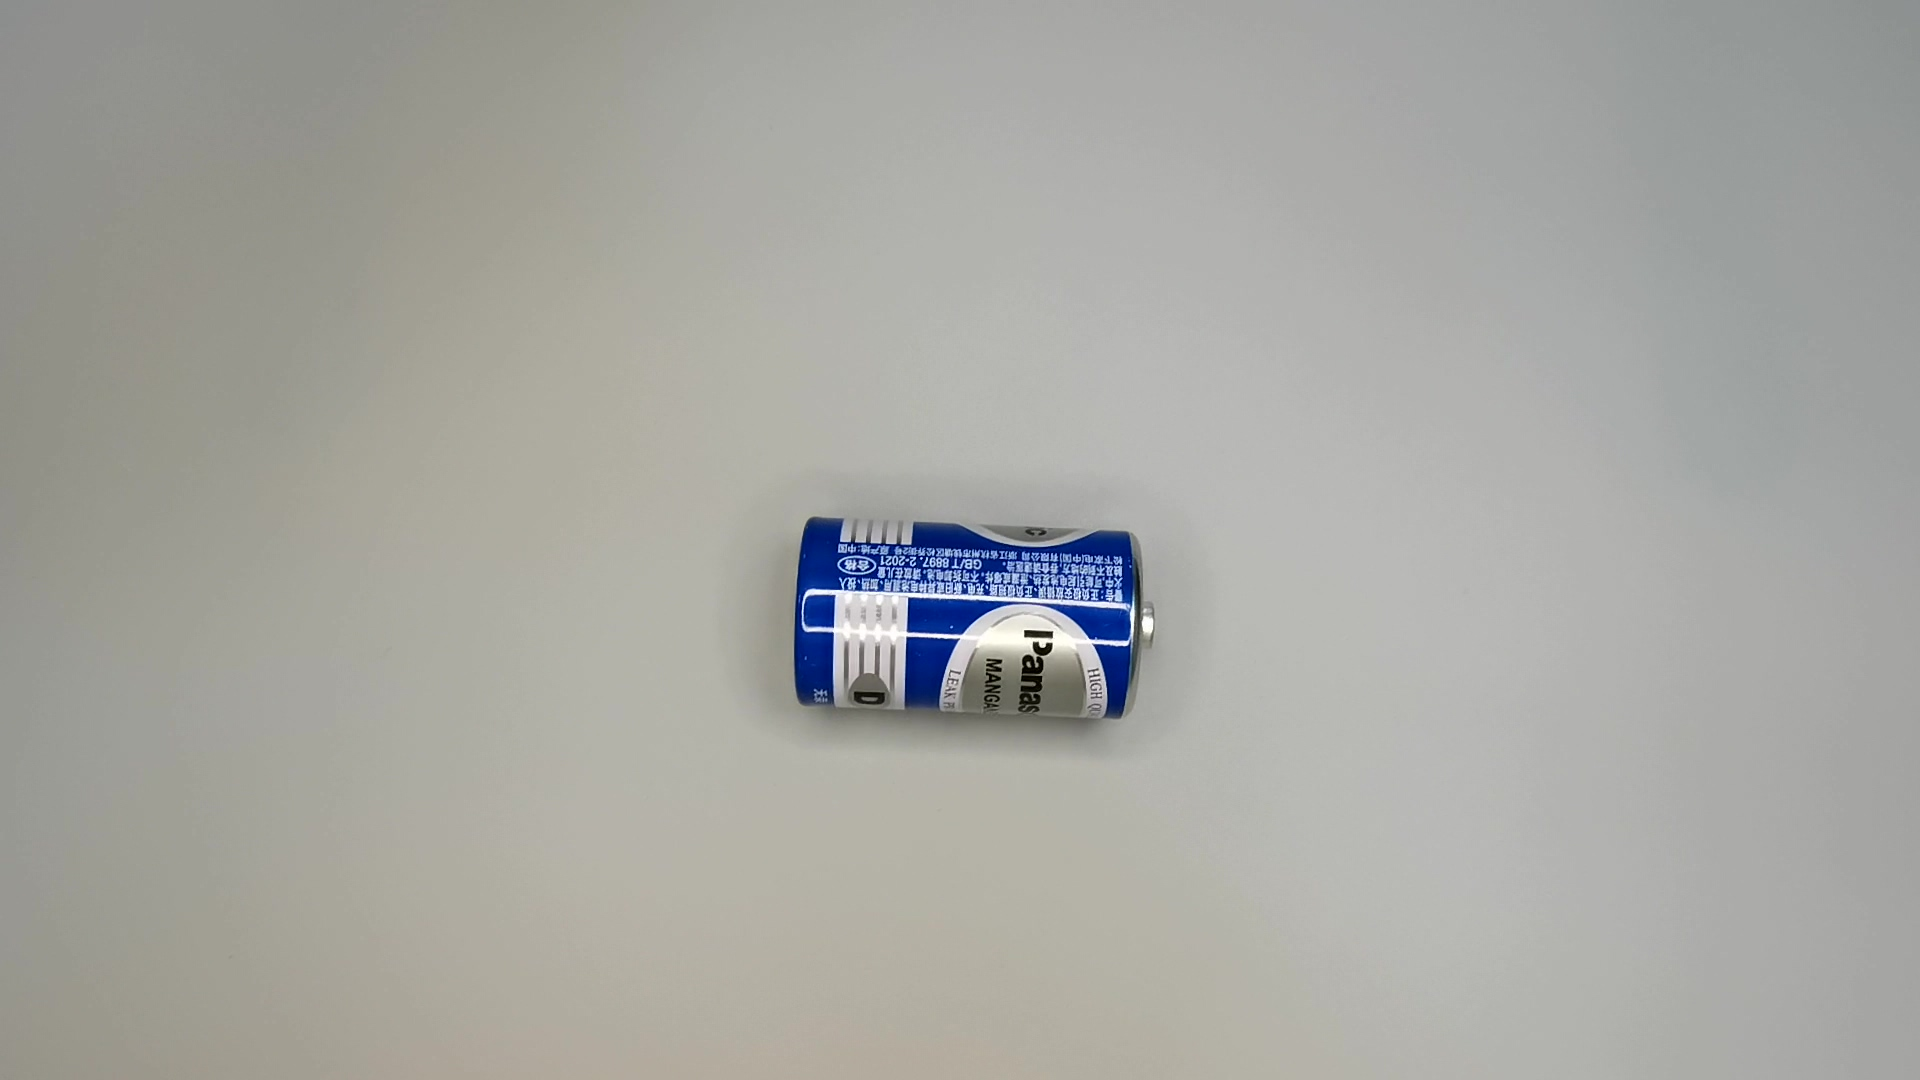battery: (786, 509, 1166, 737)
